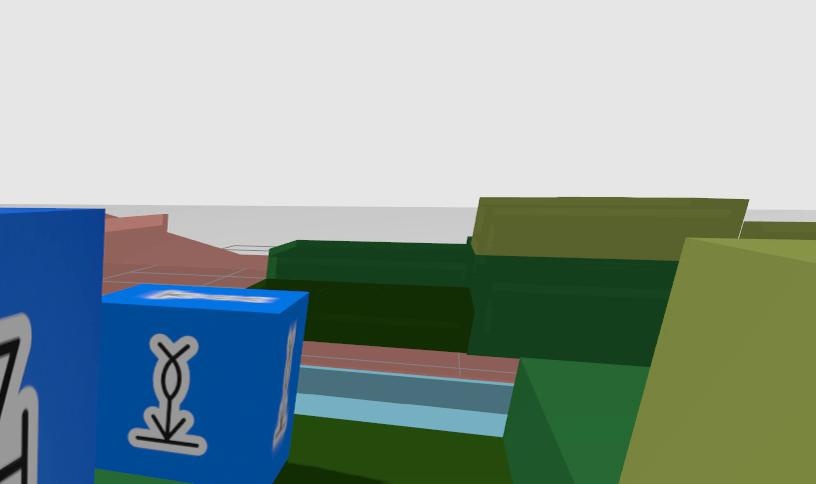KFS_REAL: (98, 283, 307, 484), (0, 209, 102, 484), (127, 334, 206, 455), (0, 314, 38, 484)
